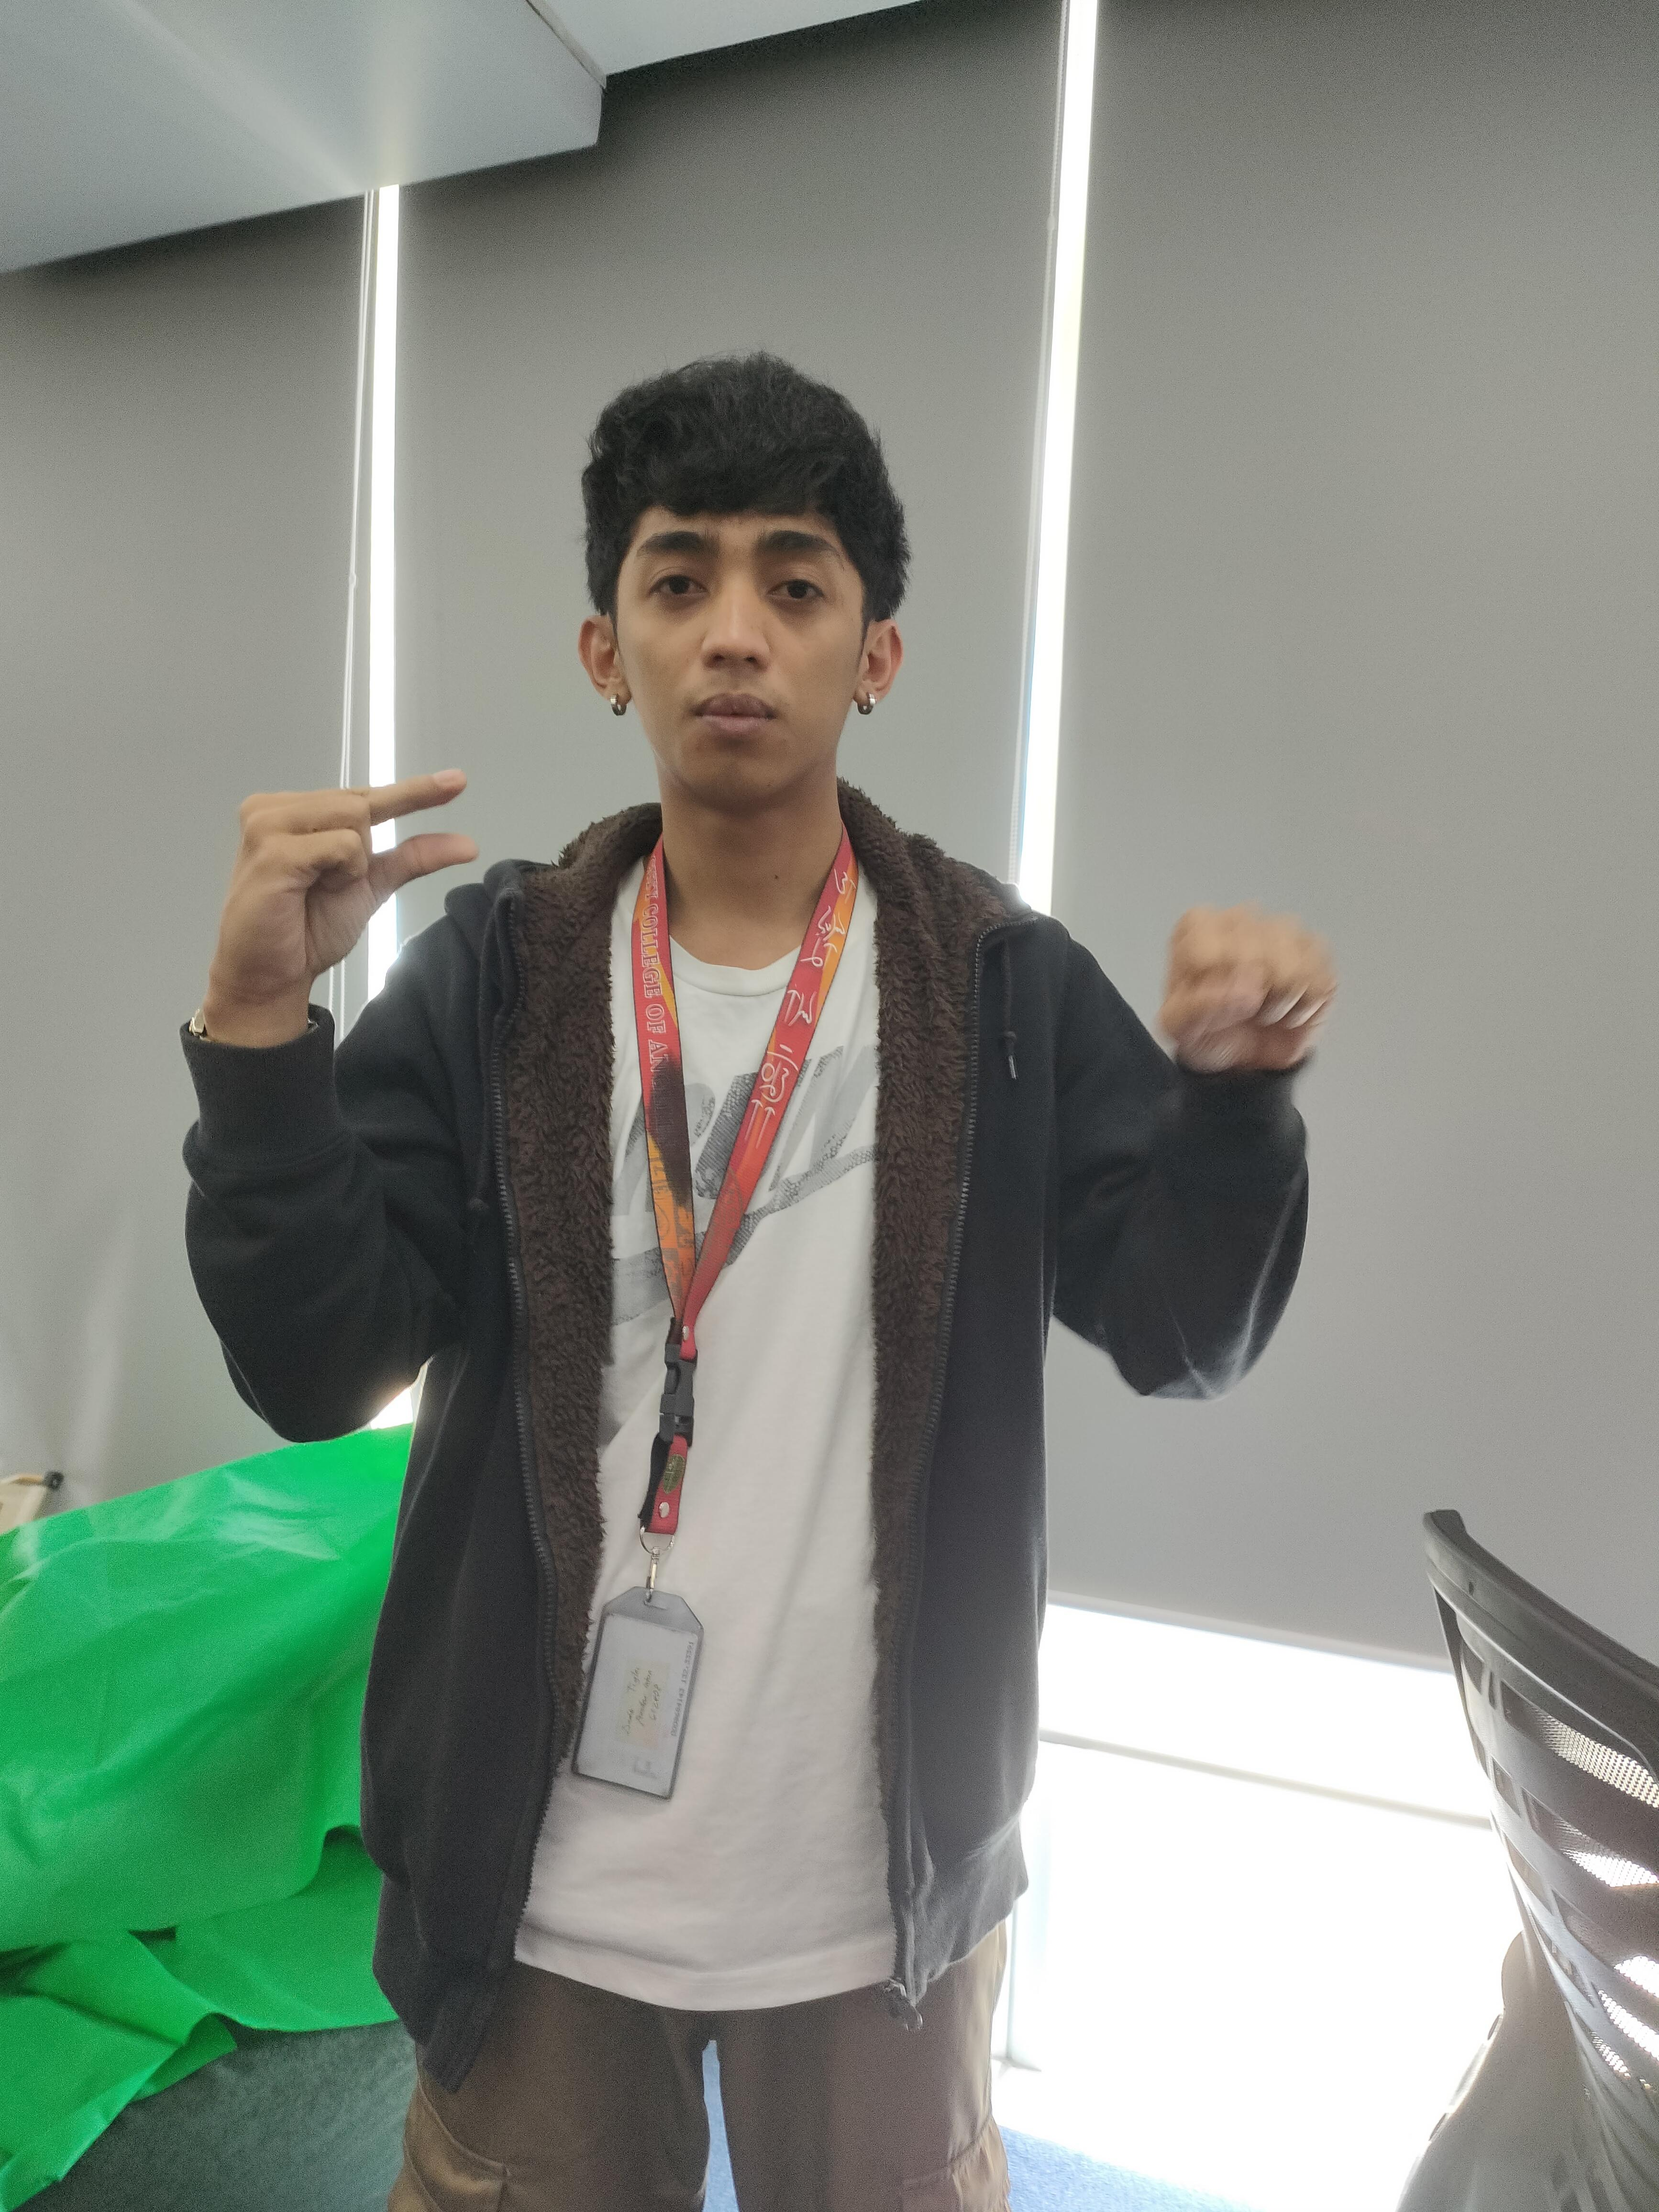No: (230, 756, 502, 963)
